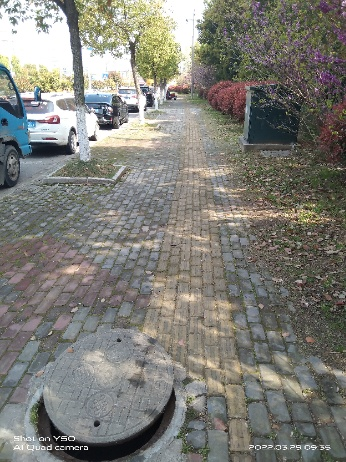uncovered: (24, 336, 187, 462)
